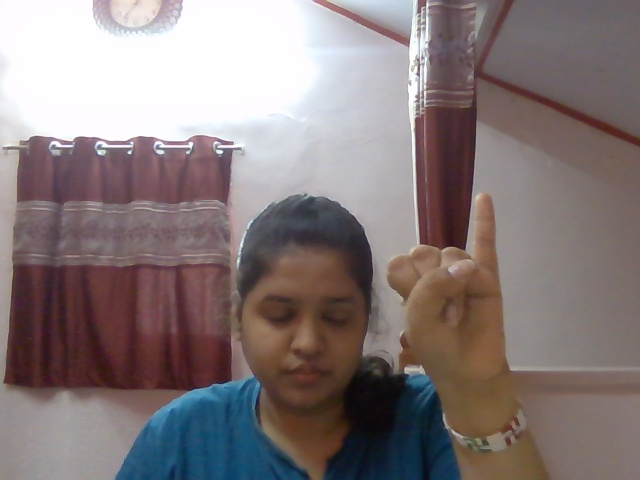i: (371, 194, 530, 376)
